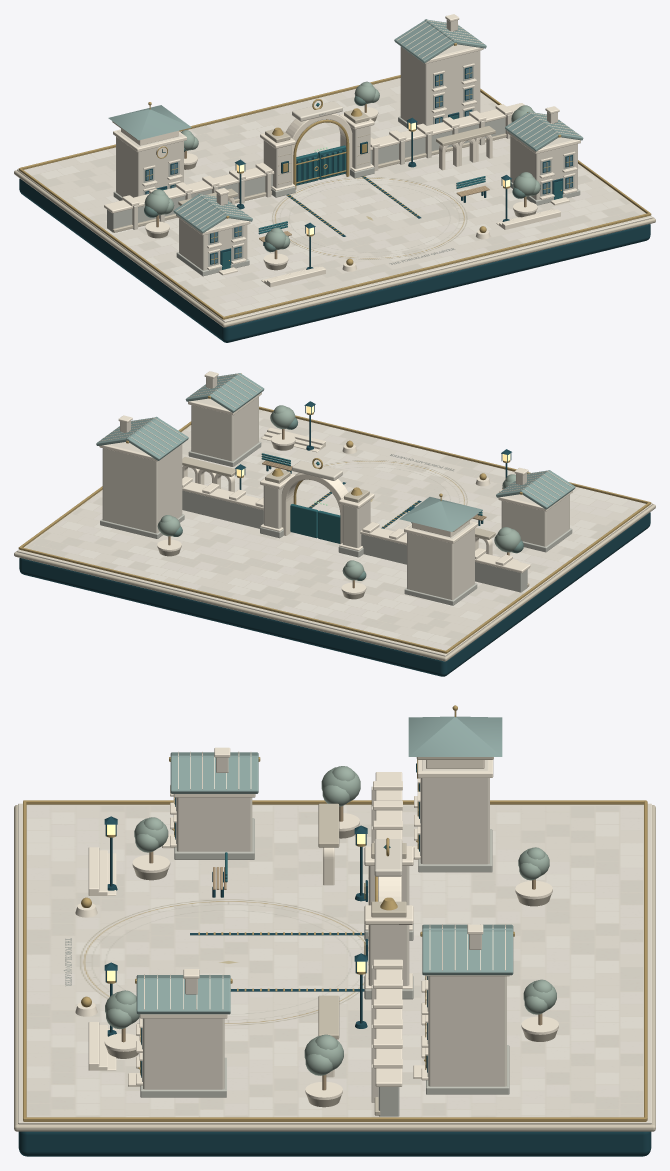
File: souli-porcelain-quarter.glb
The picture shows the model from 3 angles, top to bottom: view 1: azimuth 30°, elevation 25°; view 2: azimuth 150°, elevation 25°; view 3: azimuth 270°, elevation 25°; orthographic projection. The views are drawn at different scales.
Parts seen in each view (by area): view 1: Architecture_a0d68f12, Architecture_239d4751, Architecture_beb7a3ad, Architecture_28493e57, Architecture_c019456e, Architecture_4b1e87de, Architecture_5e72dab2, Architecture_9a740575, Architecture_b3af7d82, Porcelain_Quarter, Architecture_f870da24, Architecture_a49134df; view 2: Architecture_a0d68f12, Architecture_239d4751, Architecture_28493e57, Architecture_beb7a3ad, Architecture_c019456e, Architecture_9a740575, Architecture_4b1e87de, Architecture_5e72dab2, Architecture_b3af7d82, Porcelain_Quarter; view 3: Architecture_a0d68f12, Architecture_239d4751, Architecture_beb7a3ad, Architecture_28493e57, Architecture_c019456e, Architecture_4b1e87de, Architecture_5e72dab2, Architecture_b3af7d82, Architecture_9a740575, Architecture_d62dd8db.
Boxes of the visible parts, bbox=[...] form: Architecture_a0d68f12: bbox=[24, 78, 643, 316]; Architecture_239d4751: bbox=[17, 19, 652, 322]; Architecture_beb7a3ad: bbox=[104, 14, 580, 287]; Architecture_28493e57: bbox=[19, 66, 650, 342]; Architecture_c019456e: bbox=[108, 19, 583, 233]; Architecture_4b1e87de: bbox=[14, 110, 655, 327]; Architecture_5e72dab2: bbox=[18, 43, 651, 319]; Architecture_9a740575: bbox=[107, 65, 580, 276]; Architecture_b3af7d82: bbox=[144, 81, 540, 249]; Porcelain_Quarter: bbox=[296, 145, 346, 185]; Architecture_f870da24: bbox=[146, 68, 572, 263]; Architecture_a49134df: bbox=[161, 103, 562, 269]; Architecture_a0d68f12: bbox=[25, 409, 645, 650]; Architecture_239d4751: bbox=[17, 376, 652, 656]; Architecture_28493e57: bbox=[19, 401, 650, 676]; Architecture_beb7a3ad: bbox=[99, 371, 572, 594]; Architecture_c019456e: bbox=[96, 373, 575, 531]; Architecture_9a740575: bbox=[100, 441, 572, 605]; Architecture_4b1e87de: bbox=[14, 443, 655, 661]; Architecture_5e72dab2: bbox=[18, 373, 651, 653]; Architecture_b3af7d82: bbox=[157, 405, 521, 580]; Porcelain_Quarter: bbox=[290, 501, 340, 543]; Architecture_a0d68f12: bbox=[26, 806, 643, 1117]; Architecture_239d4751: bbox=[18, 757, 651, 1124]; Architecture_beb7a3ad: bbox=[75, 747, 558, 1099]; Architecture_28493e57: bbox=[18, 763, 651, 1156]; Architecture_c019456e: bbox=[136, 716, 513, 1014]; Architecture_4b1e87de: bbox=[14, 757, 655, 1131]; Architecture_5e72dab2: bbox=[23, 705, 647, 1121]; Architecture_b3af7d82: bbox=[105, 766, 556, 1075]; Architecture_9a740575: bbox=[140, 783, 509, 1116]; Architecture_d62dd8db: bbox=[121, 806, 542, 1090].
Size of the model in its own units: 24.7 by 6.94 by 20.8.
Materials: 21 (3 with a texture image).
